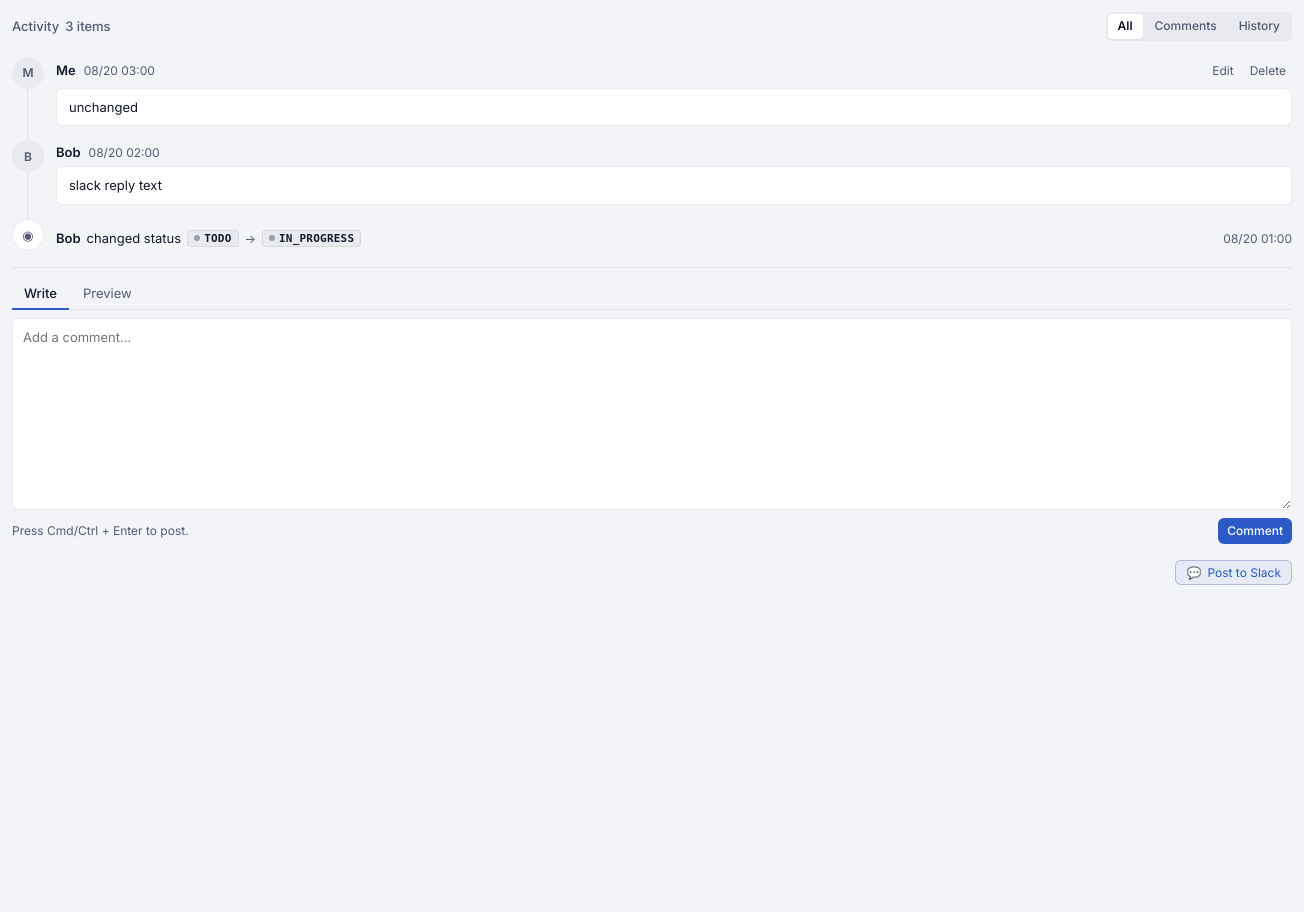
Test: ActionActivity comments › does not send an update when the body is unchanged
Expected: the element with test id "activity-comment-c-mine" is shown, [12, 53, 1292, 130]
Click the button with test id "action-comment-edit-c-mine" at point(1223, 71), box [1206, 61, 1240, 82]
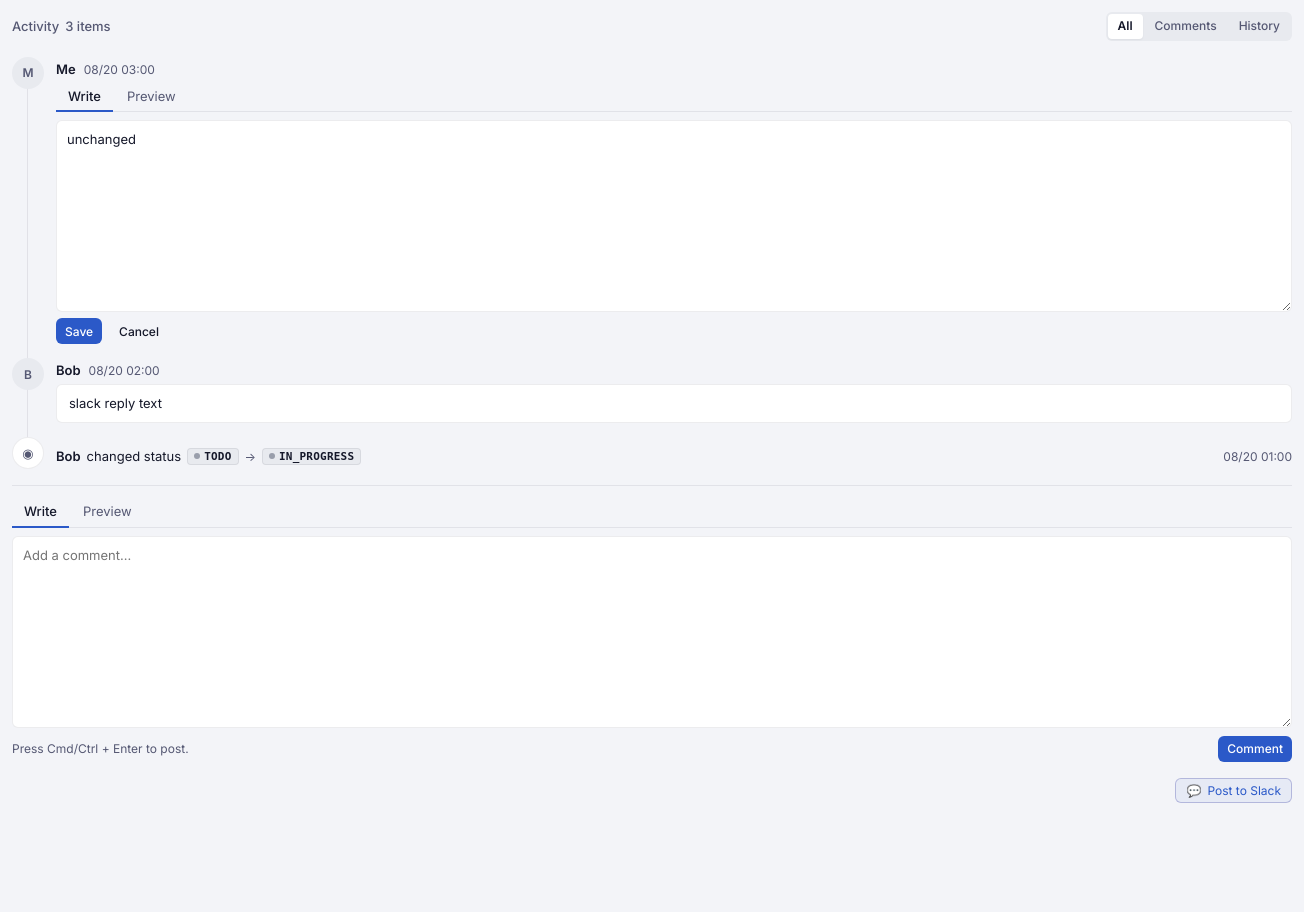
Expected: the text box with test id "action-comment-editor-c-mine-textarea" is shown, [56, 120, 1292, 312]
Click the button with test id "action-comment-save-c-mine" at point(79, 331), box [56, 318, 102, 344]
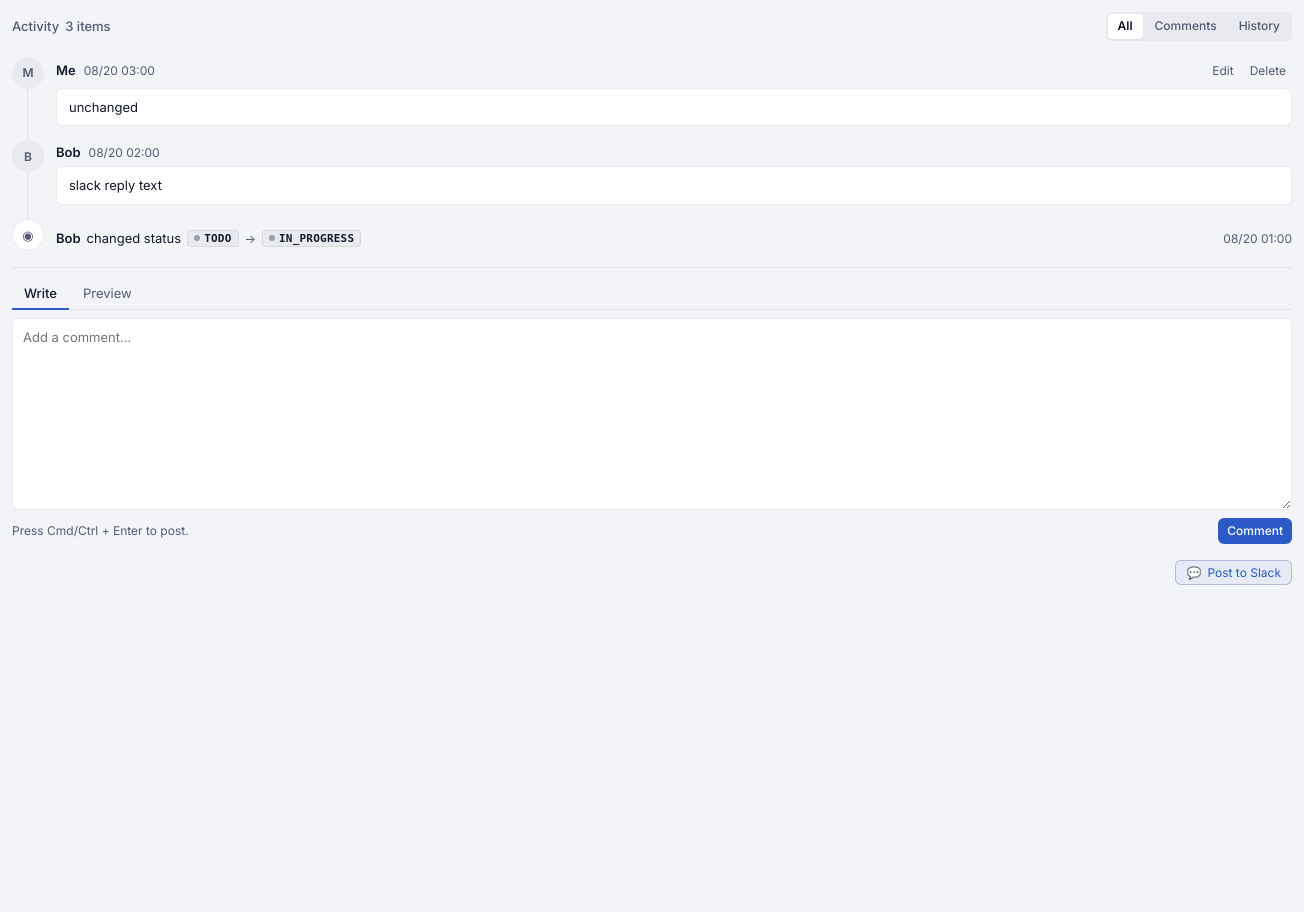
Expected: the text box with test id "action-comment-editor-c-mine-textarea" is gone
